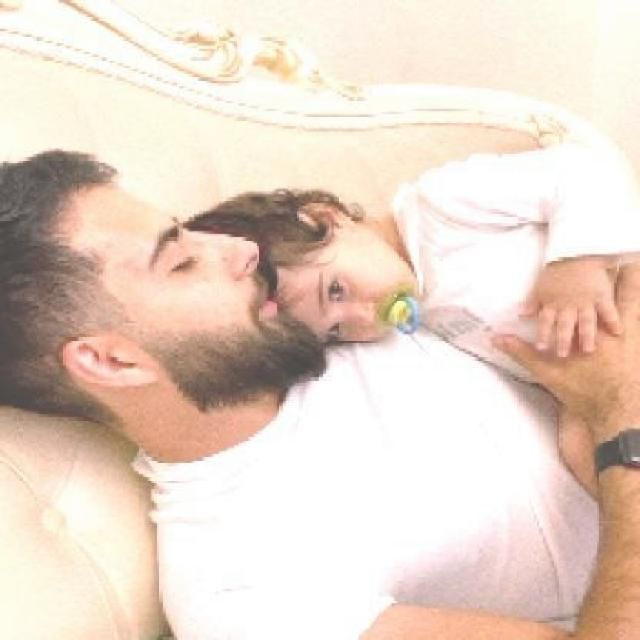child: (183, 144, 640, 384)
